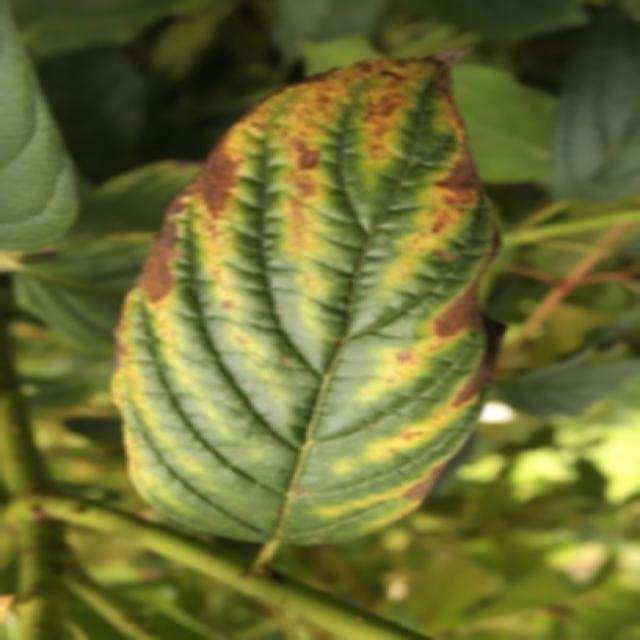Chlorosis: (145, 72, 515, 595)
